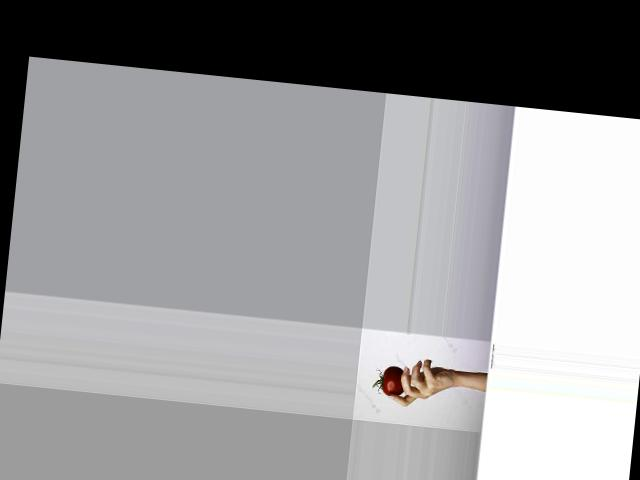tomato: (372, 364, 405, 396)
